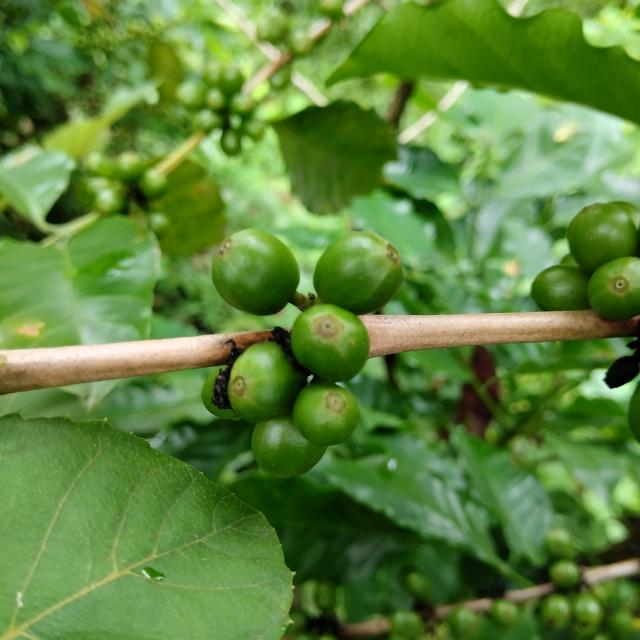green: (211, 229, 300, 316), (314, 231, 404, 315), (228, 341, 306, 423), (291, 304, 370, 382), (568, 202, 639, 274), (251, 416, 327, 479), (293, 383, 360, 447), (588, 256, 640, 320), (531, 265, 591, 311), (201, 369, 240, 420)
